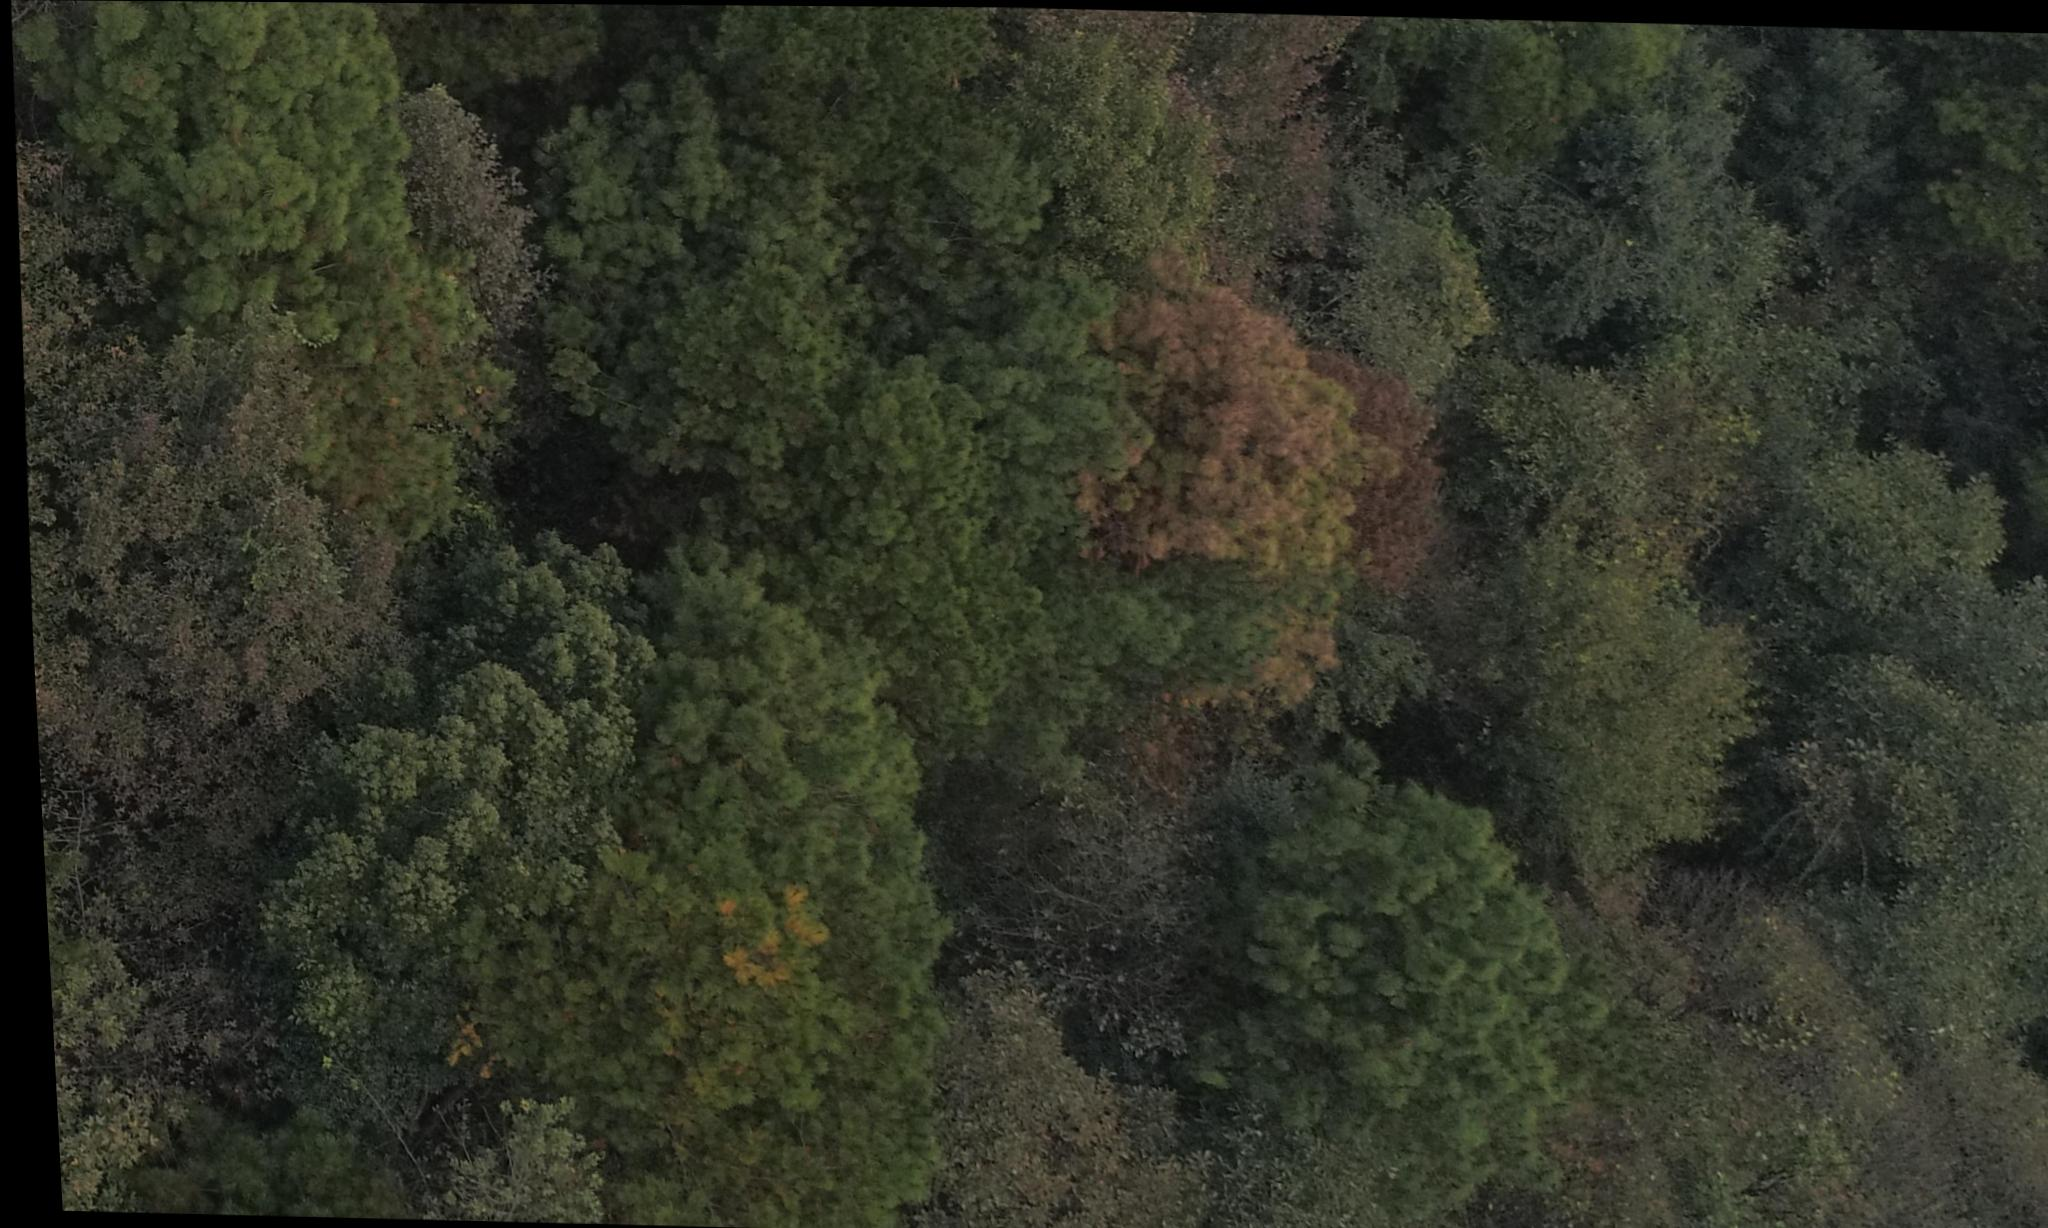heavy: (1355, 361, 1455, 588)
light: (1050, 250, 1355, 699), (303, 259, 497, 519), (656, 841, 880, 1041)
